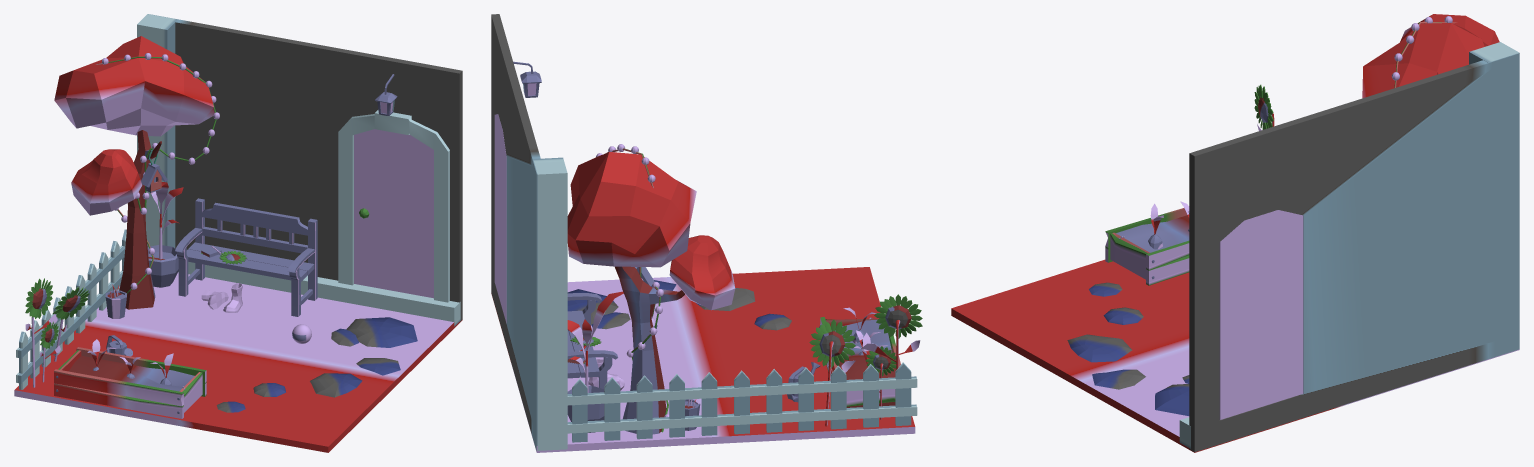
The model's file is Backyard.fbx.
3 renders of one model, left to right at view 1: azimuth 30°, elevation 25°; view 2: azimuth 150°, elevation 25°; view 3: azimuth 270°, elevation 25°, orthographic. The views are drawn at different scales.
Visible parts, largest first — view 1: Backyard_Walls, Backyard_Tree, Backyard_Planks, Backyard_Door, Backyard_Bench, Backyard_Garden, Backyard_Fence, Backyard_Stones, Backyard_Sunflowers, Backyard, Backyard_Lights, Backyard_Boots (+3 smaller); view 2: Backyard_Walls, Backyard_Tree, Backyard_Fence, Backyard_Planks, Backyard_Sunflowers, Backyard_Garden, Backyard_Door, Backyard_Stones, Backyard_Bench, Backyard, Backyard_Lights, Backyard_Lantern; view 3: Backyard_Walls, Backyard_Door, Backyard_Tree, Backyard_Garden, Backyard_Stones, Backyard_Planks, Backyard_Sunflowers.
Boxes of the visible parts, bbox=[...] form: Backyard_Walls: bbox=[14, 14, 462, 452]; Backyard_Tree: bbox=[54, 36, 214, 309]; Backyard_Planks: bbox=[137, 14, 460, 326]; Backyard_Door: bbox=[354, 129, 433, 298]; Backyard_Bench: bbox=[175, 198, 317, 316]; Backyard_Garden: bbox=[54, 347, 206, 418]; Backyard_Fence: bbox=[16, 229, 126, 389]; Backyard_Stones: bbox=[216, 317, 417, 412]; Backyard_Sunflowers: bbox=[25, 246, 246, 387]; Backyard: bbox=[105, 182, 183, 318]; Backyard_Lights: bbox=[96, 53, 219, 294]; Backyard_Boots: bbox=[201, 283, 242, 312]; Backyard_Walls: bbox=[491, 14, 915, 452]; Backyard_Tree: bbox=[567, 152, 735, 434]; Backyard_Fence: bbox=[567, 362, 917, 442]; Backyard_Planks: bbox=[533, 157, 567, 450]; Backyard_Sunflowers: bbox=[570, 294, 922, 426]; Backyard_Garden: bbox=[820, 314, 900, 407]; Backyard_Door: bbox=[494, 114, 506, 322]; Backyard_Stones: bbox=[567, 280, 819, 330]; Backyard_Bench: bbox=[567, 293, 617, 388]; Backyard: bbox=[567, 291, 700, 432]; Backyard_Lights: bbox=[596, 144, 669, 432]; Backyard_Lantern: bbox=[513, 61, 541, 97]; Backyard_Walls: bbox=[951, 53, 1519, 452]; Backyard_Door: bbox=[1219, 210, 1303, 419]; Backyard_Tree: bbox=[1362, 14, 1499, 98]; Backyard_Garden: bbox=[1105, 208, 1189, 285]; Backyard_Stones: bbox=[1067, 282, 1189, 415]; Backyard_Planks: bbox=[1179, 42, 1519, 448]; Backyard_Sunflowers: bbox=[1254, 84, 1274, 130].
Size of the model in its own units: 700 by 416 by 700.
